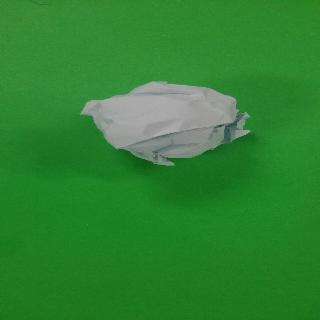8/可回收垃圾/纸: (79, 80, 252, 167)
